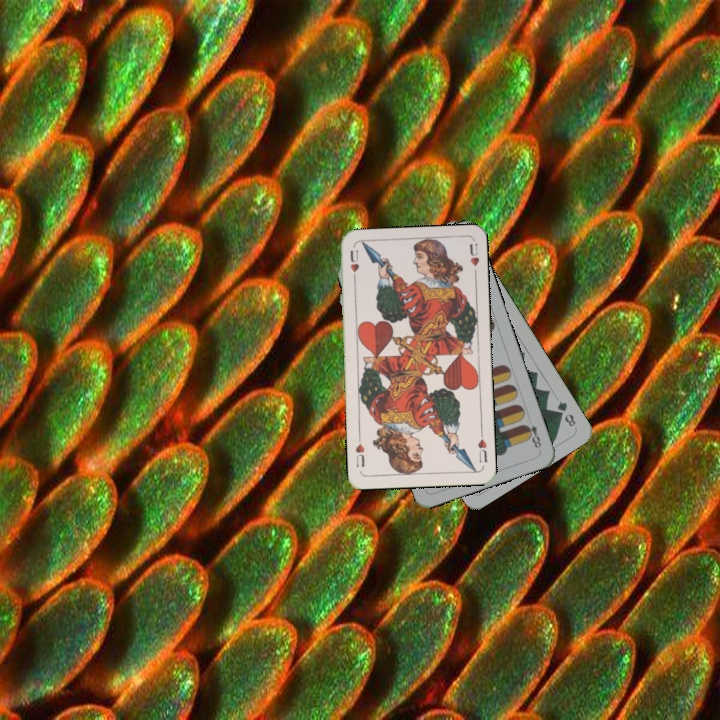E8: (520, 420, 544, 451)
G8: (553, 396, 579, 430)
HU: (346, 246, 362, 285), (474, 428, 490, 465)
